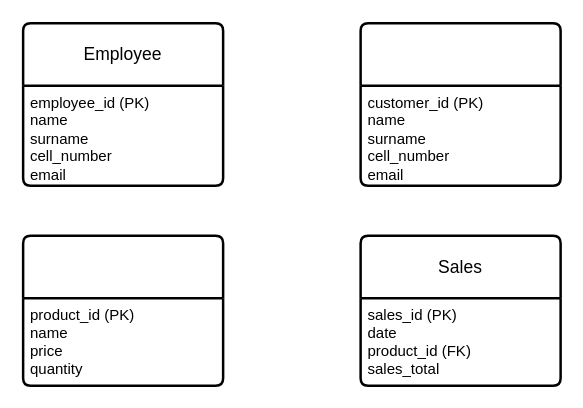
Image size: 583x408. Some labels were removed from this diagram. Each missing label, with the box of its shape:
Customers: (359, 21, 561, 186)
Products: (21, 234, 224, 386)
